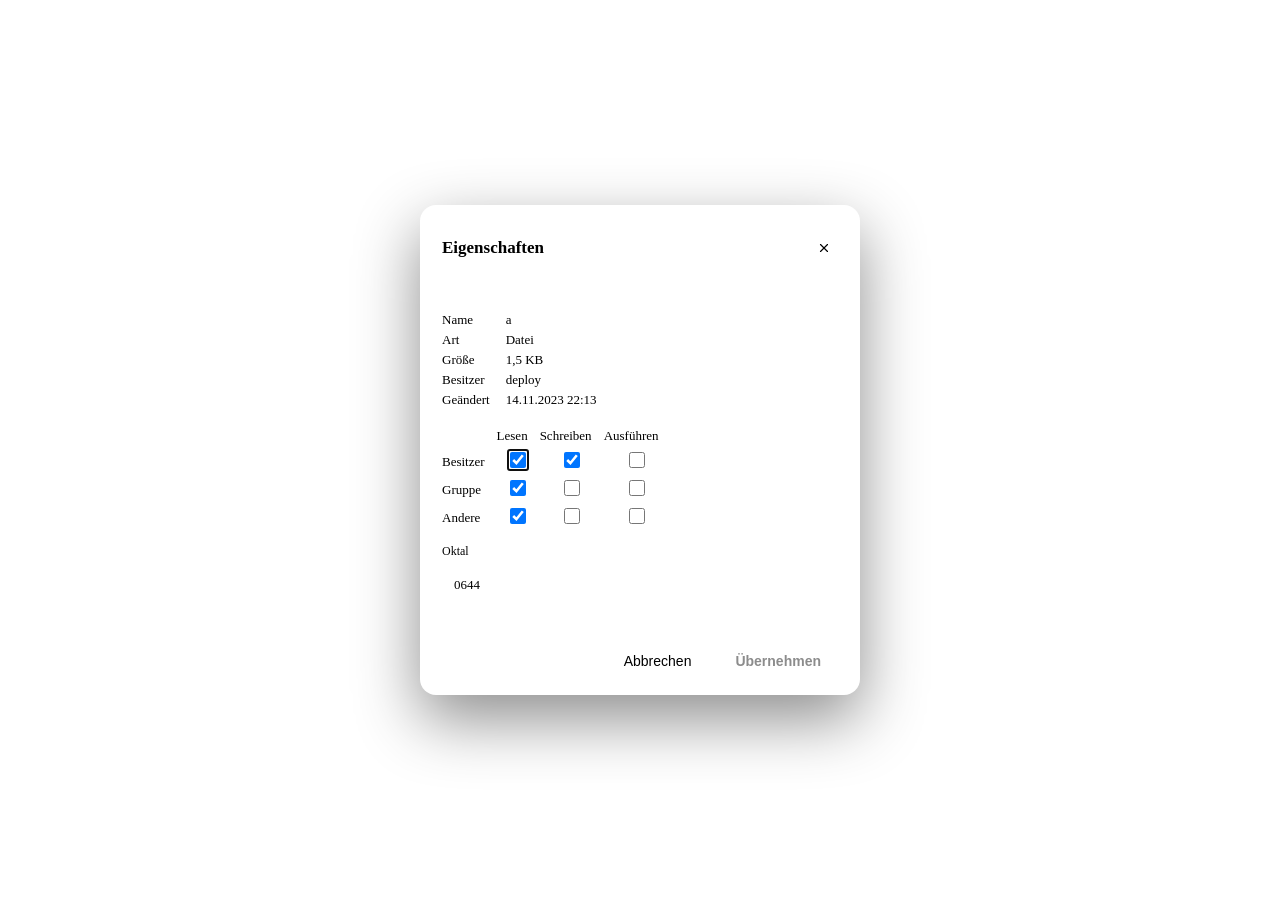
Test: PermissionsDialog › stays open and names the first failure
Click the checkbox named "Andere: Lesen": (518, 516) left=510, top=508, right=526, bottom=524
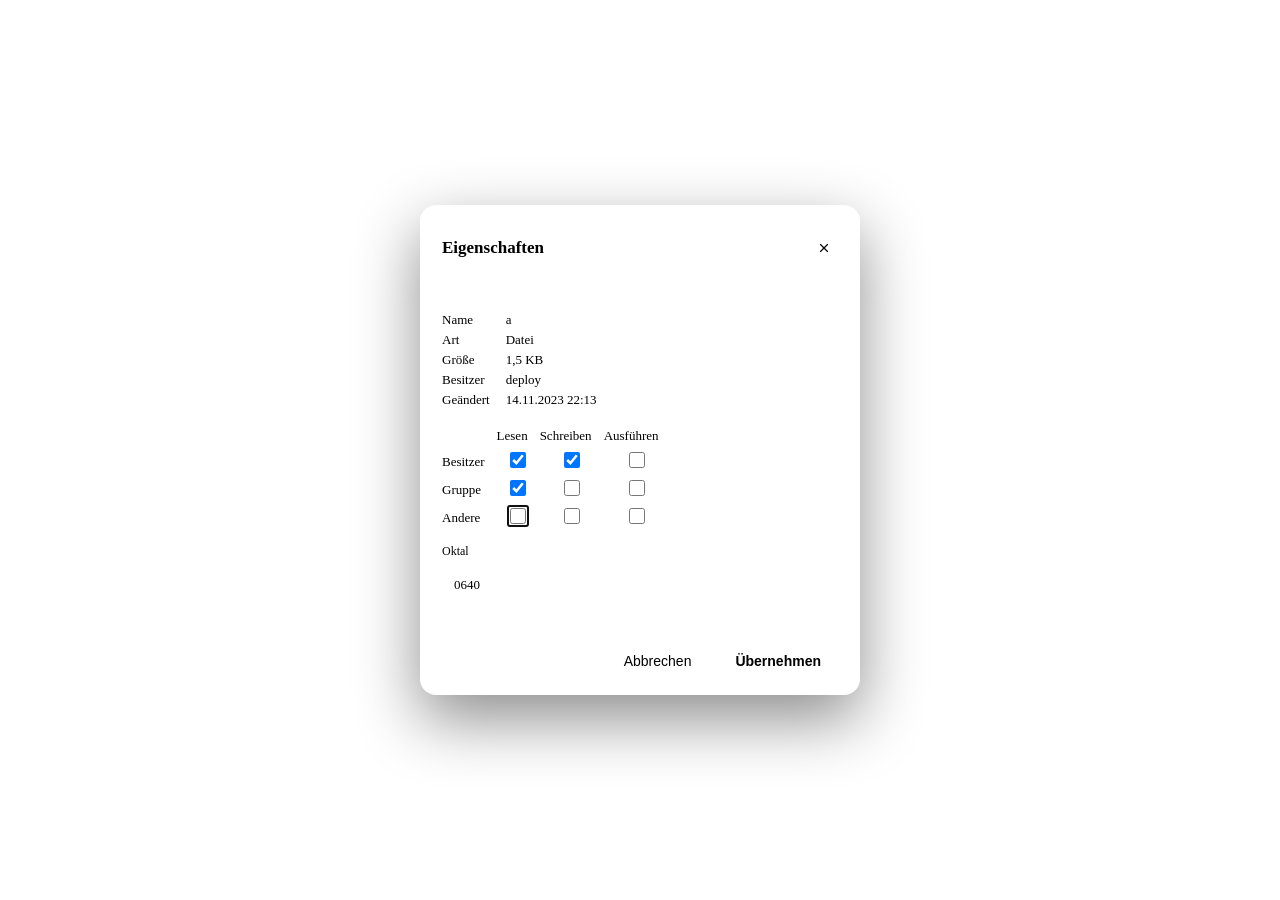
Click the button "Übernehmen": (778, 661) left=718, top=641, right=838, bottom=681
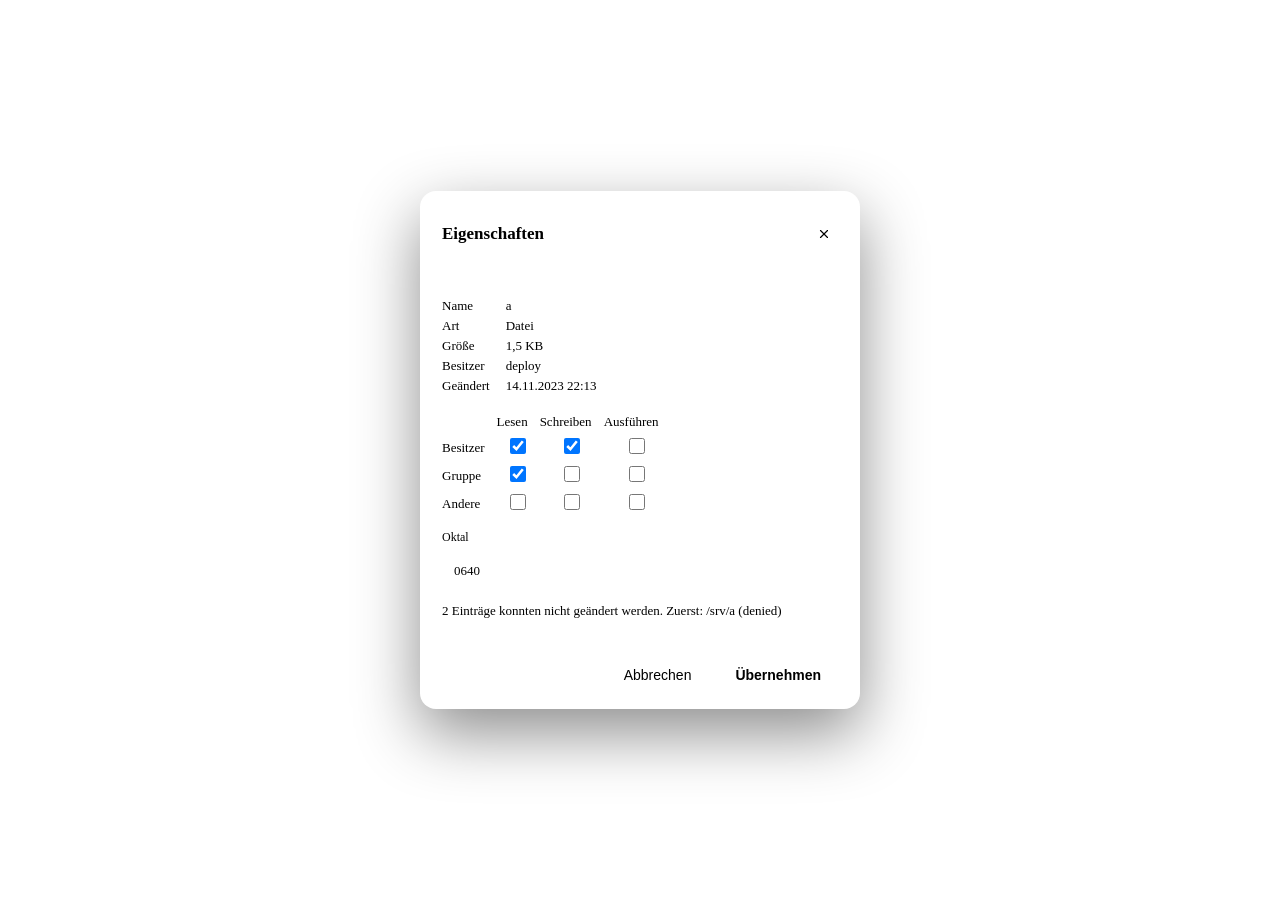
Now the text "2 Einträge konnten nicht geändert werden. Zuerst: /srv/a (denied)" is shown, box left=442, top=603, right=838, bottom=619
